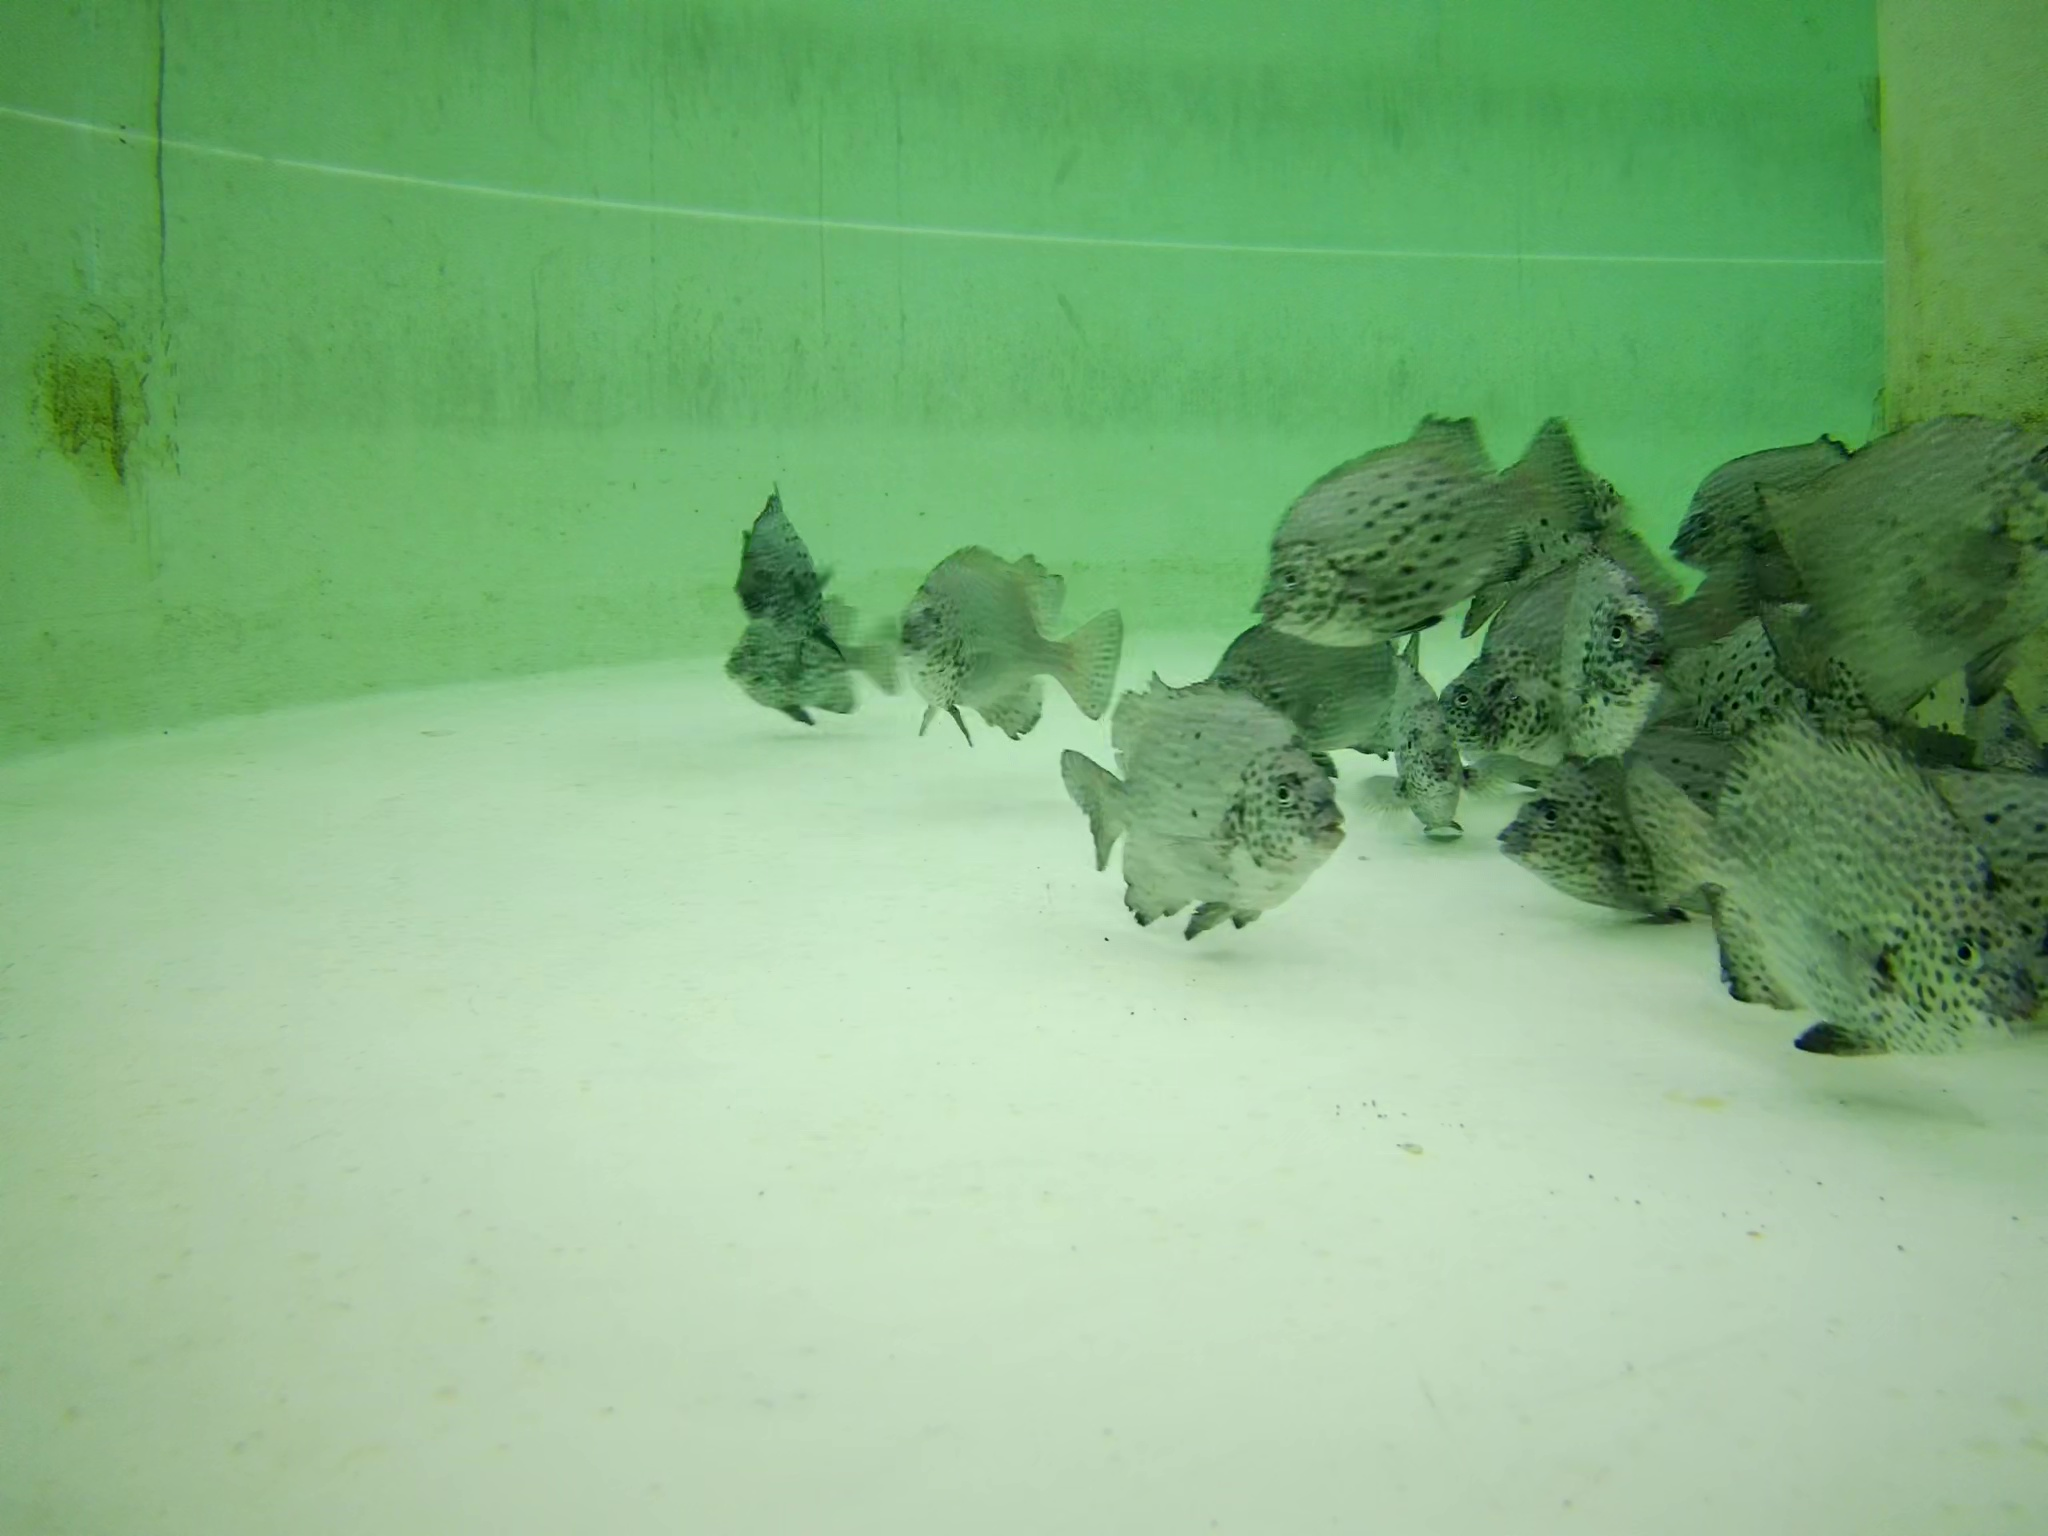fish: (1616, 721, 2045, 1054), (1761, 408, 2048, 712), (1238, 411, 1592, 616), (1061, 674, 1319, 929), (1785, 715, 2048, 952), (885, 544, 1116, 737), (726, 497, 897, 731), (1197, 610, 1437, 757), (1469, 579, 1682, 734), (1508, 758, 1698, 920), (1646, 611, 1879, 737), (1682, 439, 1877, 560), (1574, 537, 1666, 763), (1397, 673, 1490, 855)
